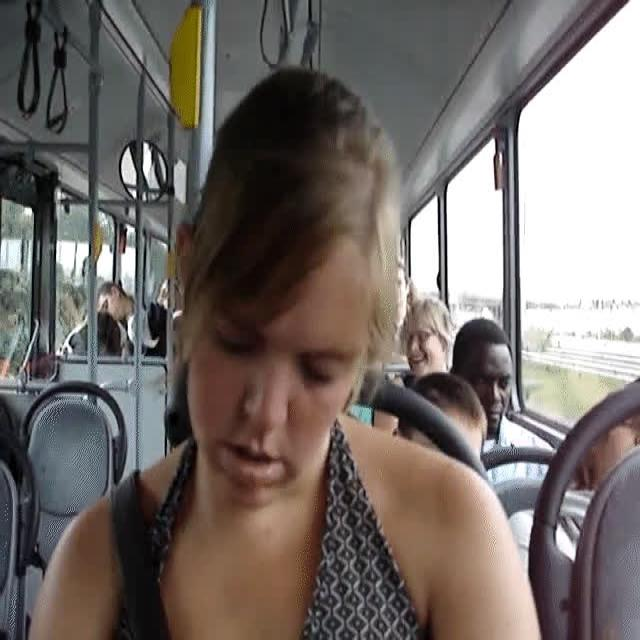no-seatbelt: (170, 62, 393, 512)
